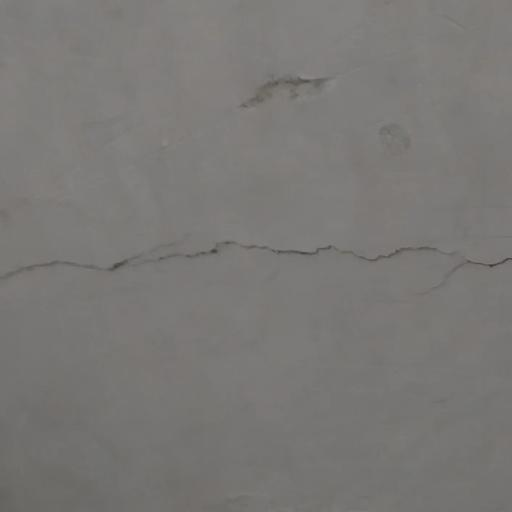minor_crack: (0, 235, 512, 296)
